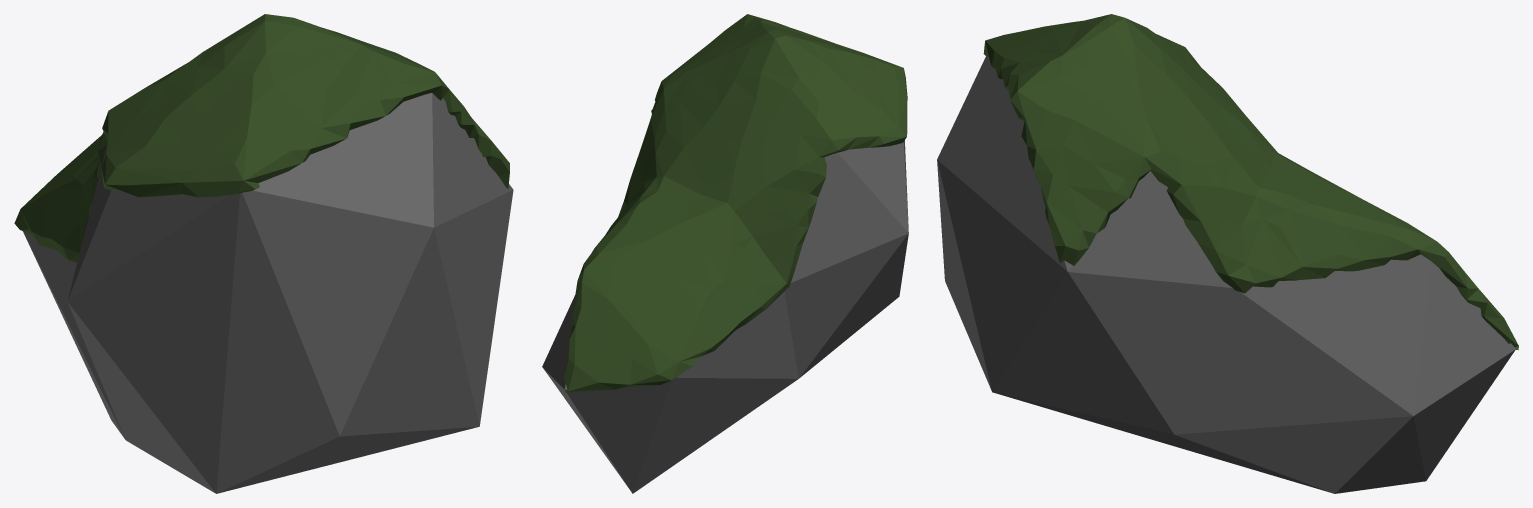
Rendered from stone-2.fbx.
3 renders of one model, left to right at view 1: azimuth 30°, elevation 25°; view 2: azimuth 150°, elevation 25°; view 3: azimuth 270°, elevation 25°, orthographic. The views are drawn at different scales.
Parts seen in each view (by area): view 1: Stone.004; view 2: Stone.004; view 3: Stone.004.
Boxes of the visible parts, x1=… form: Stone.004: x1=14, y1=14, x2=513, y2=493; Stone.004: x1=542, y1=14, x2=908, y2=493; Stone.004: x1=937, y1=14, x2=1518, y2=493.
Size of the model in its own units: 120 by 152 by 178.
